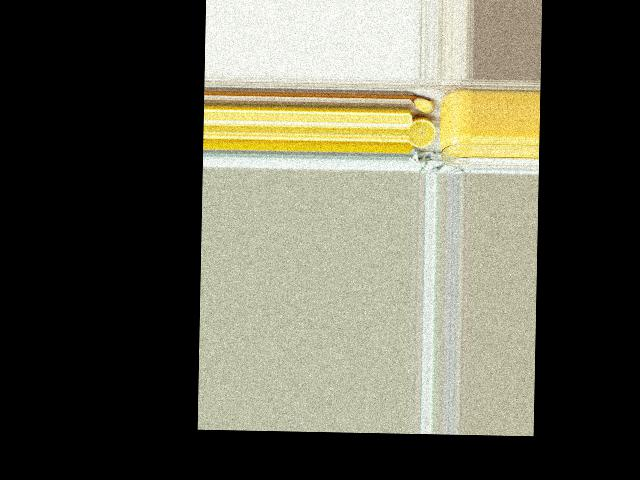lemon: (410, 117, 436, 149)
